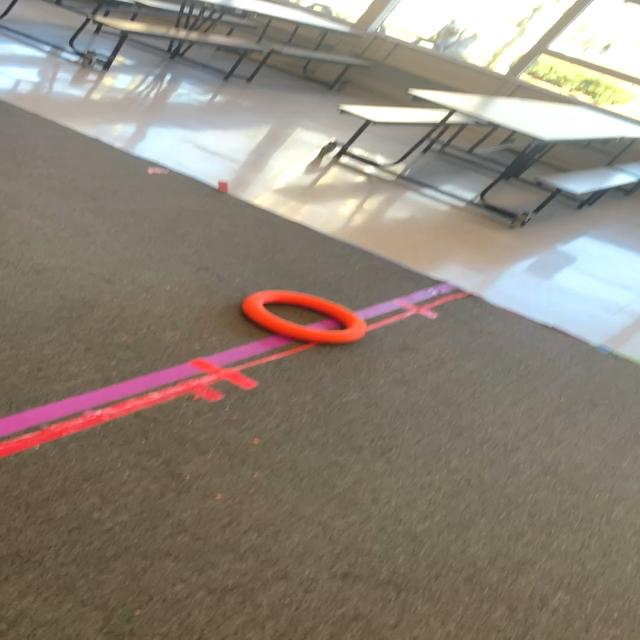notes: (245, 290, 367, 342)
